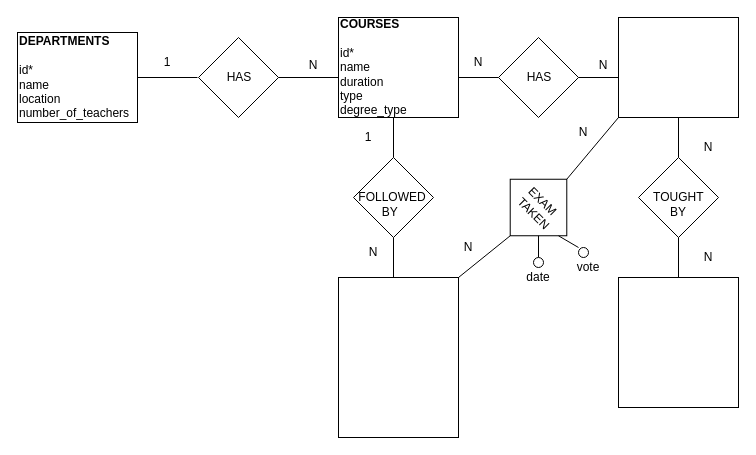
This 756x455 diagram has some shape labels left out. Each missing label, with the centre of its shape:
"STUDENTS id* name age course department exams_done vote_average adress email" goes at pixel 398 357.
"SUBJECTS id* name hours theory_only mandatory" goes at pixel 678 67.
"TEACHERS id* name subject course department title email" goes at pixel 678 342.
